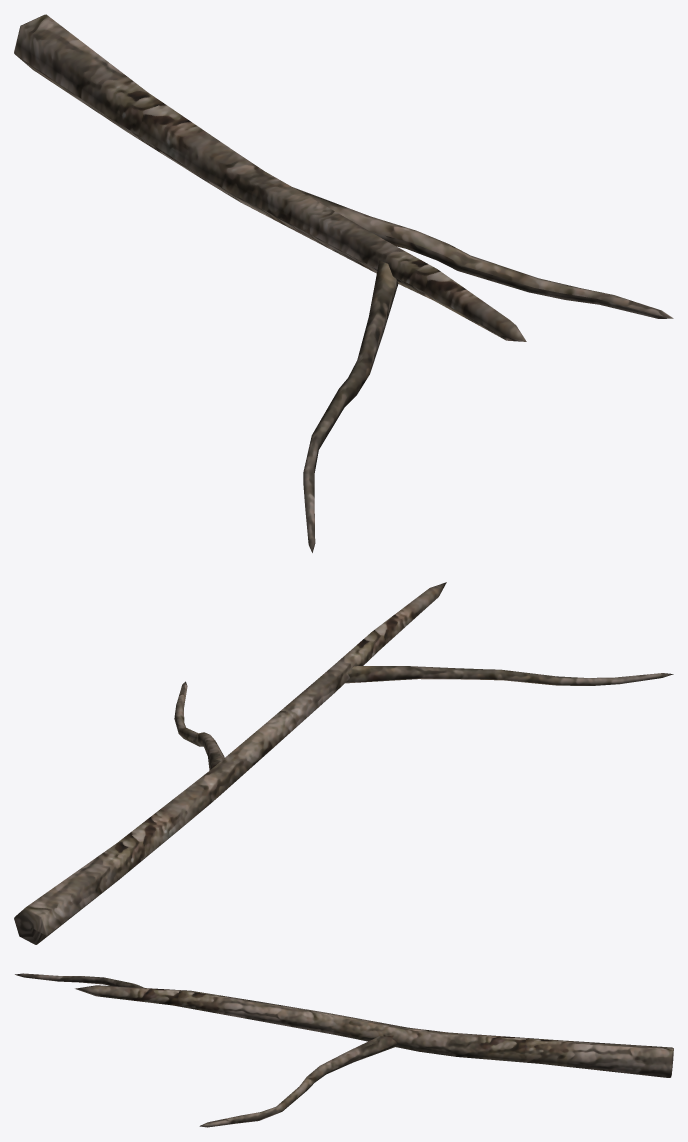
Rendered from SM_OakStickA_1.fbx.
3 views of the same model, one above another, from view 1: azimuth 30°, elevation 25°; view 2: azimuth 150°, elevation 25°; view 3: azimuth 270°, elevation 25° (orthographic). The views are drawn at different scales.
Parts seen in each view (by area): view 1: BranchThin_oak_3; view 2: BranchThin_oak_3; view 3: BranchThin_oak_3.
Boxes of the visible parts, x1,y1,x2,y2 form: BranchThin_oak_3: (14, 14, 673, 552); BranchThin_oak_3: (14, 582, 673, 944); BranchThin_oak_3: (15, 973, 673, 1127).
Bounding box in the file's own units: 1.32 × 0.3326 × 2.58.
